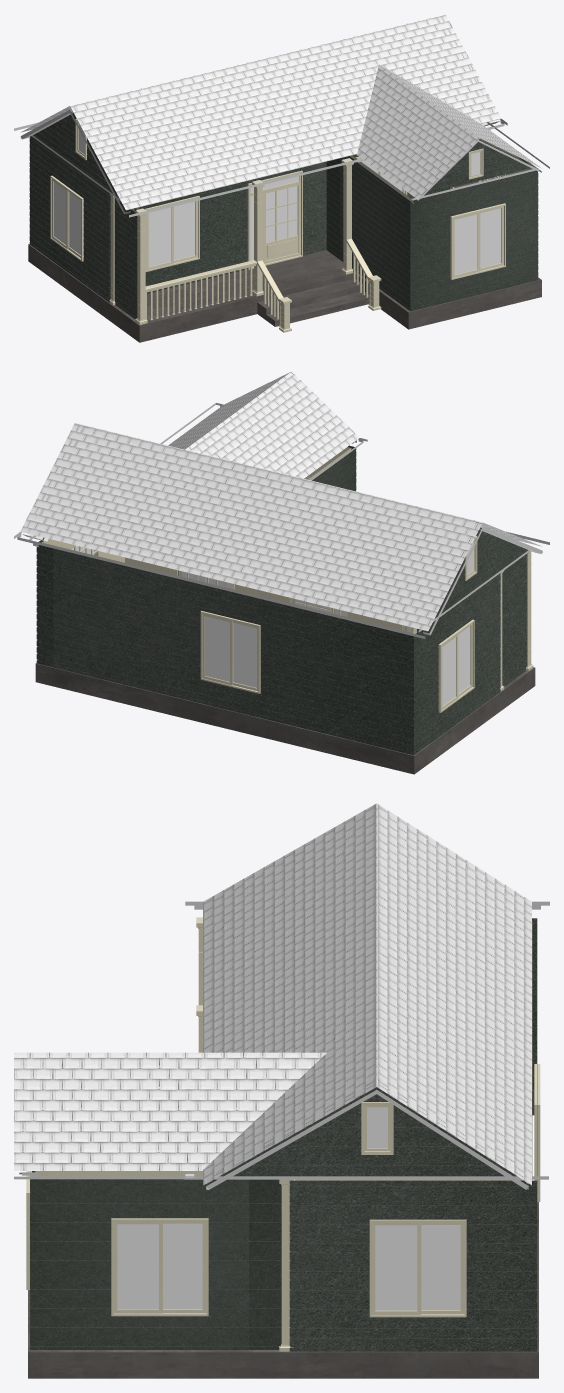
Rendered from House+Model+004.glb.
3 renders of one model, top to bottom at view 1: azimuth 30°, elevation 25°; view 2: azimuth 150°, elevation 25°; view 3: azimuth 270°, elevation 25°, orthographic. The views are drawn at different scales.
Parts seen in each view (by area): view 1: House 004; view 2: House 004; view 3: House 004.
Part boxes in pixels (x1=…): House 004: x1=14, y1=14, x2=549, y2=342; House 004: x1=14, y1=371, x2=549, y2=774; House 004: x1=14, y1=803, x2=549, y2=1378.
Size of the model in its own units: 11.93 by 5.96 by 9.52.
5 materials, 4 textured.
